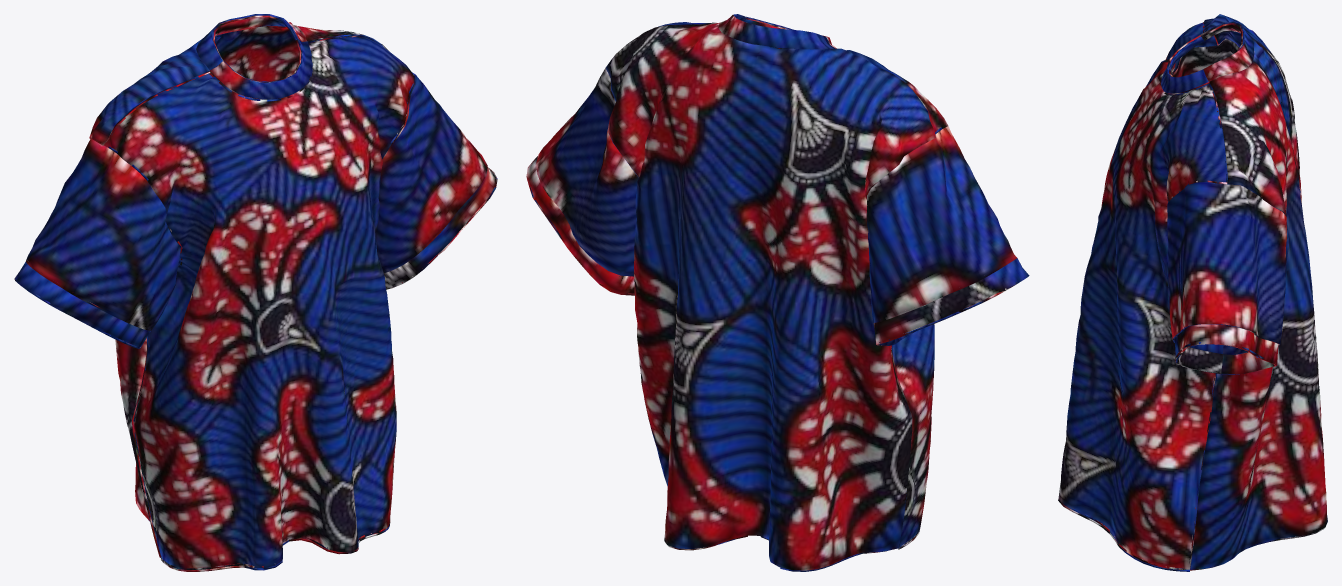
The model's file is cloak.glb.
The picture shows the model from 3 angles, left to right: view 1: azimuth 30°, elevation 25°; view 2: azimuth 150°, elevation 25°; view 3: azimuth 270°, elevation 25°; orthographic projection. The views are drawn at different scales.
Parts seen in each view (by area): view 1: all; view 2: all; view 3: all.
Boxes of the visible parts, bbox=[...] form: all: bbox=[14, 14, 497, 571]; all: bbox=[526, 14, 1029, 571]; all: bbox=[1058, 14, 1327, 571].
Bounding box in the file's own units: 0.6568 × 0.6627 × 0.3333.
1 material, 1 textured.
